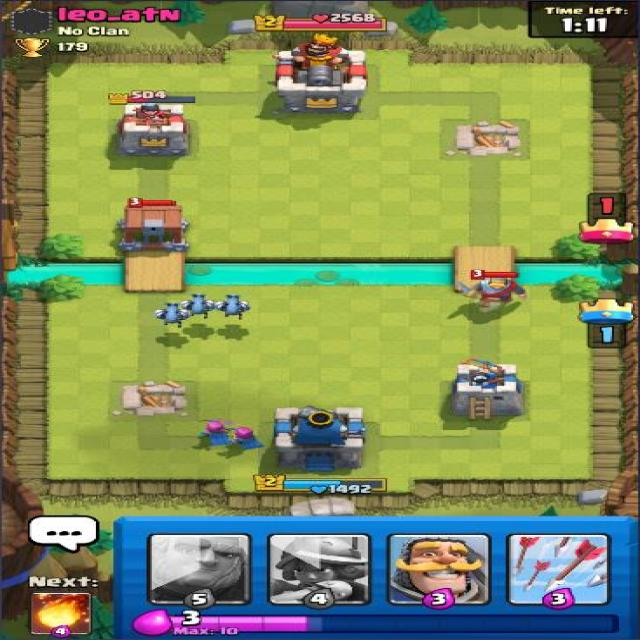Enemy-GoblinCage: (115, 198, 195, 255)
Enemy-Knight: (453, 268, 532, 310)
Player-Archer: (196, 417, 236, 449), (227, 423, 267, 451)
Player-Minion: (210, 292, 256, 322), (152, 299, 194, 331), (180, 291, 218, 320)
